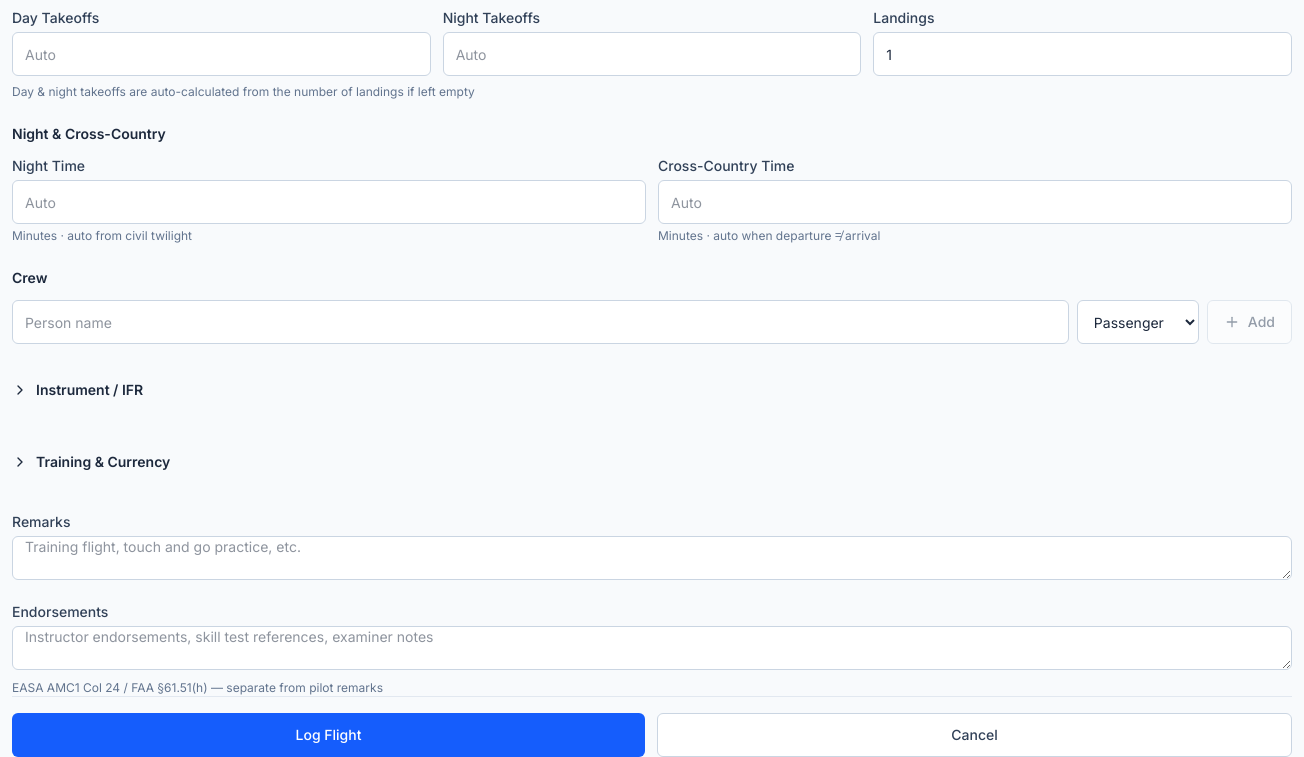
Test: FlightForm › renders time fields in the Instrument / IFR drawer
The image size is (1304, 757).
(page scrolled)
Expected: the field labelled "ifr time" is not shown
Expand Instrument / IFR
Click the button "Instrument / IFR".
click(90, 390)  # box [12,368,1292,412]
(page scrolled)
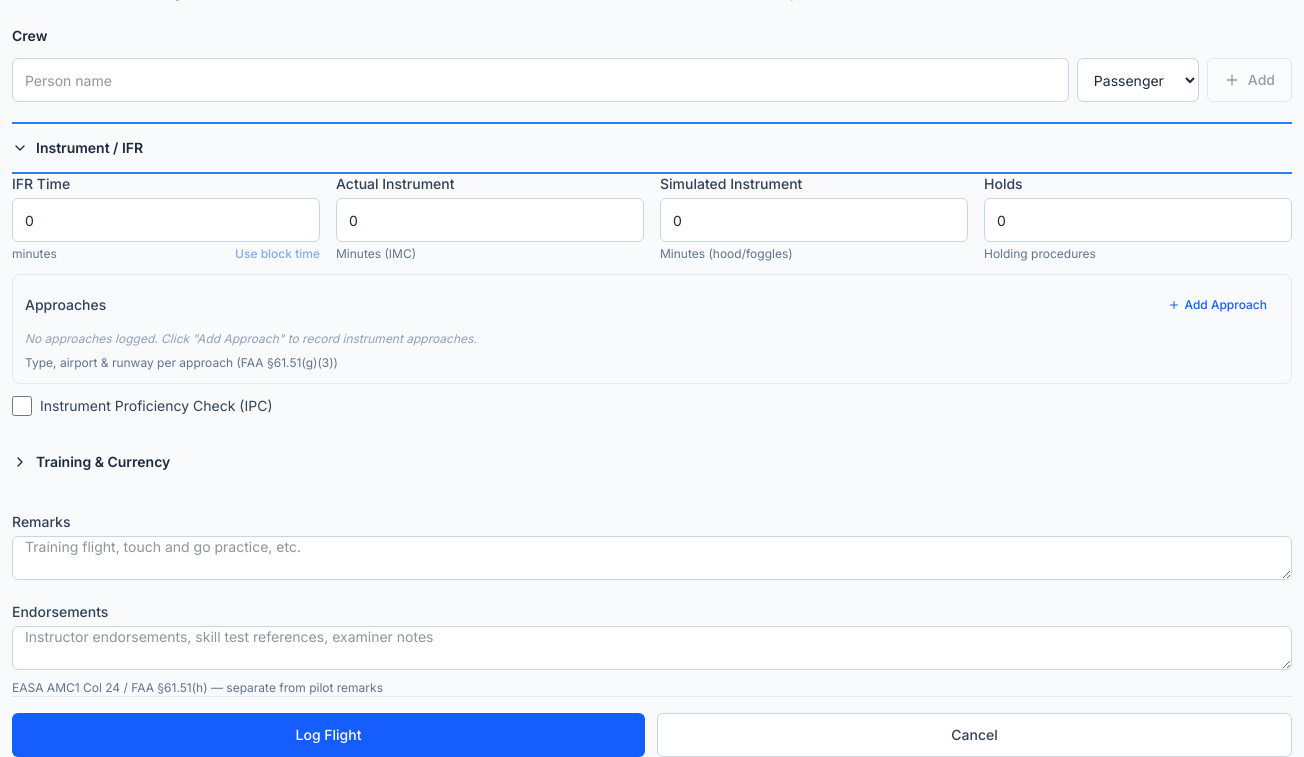
Expected: the number field labelled "IFR Time" is shown, [12,198,320,242]
